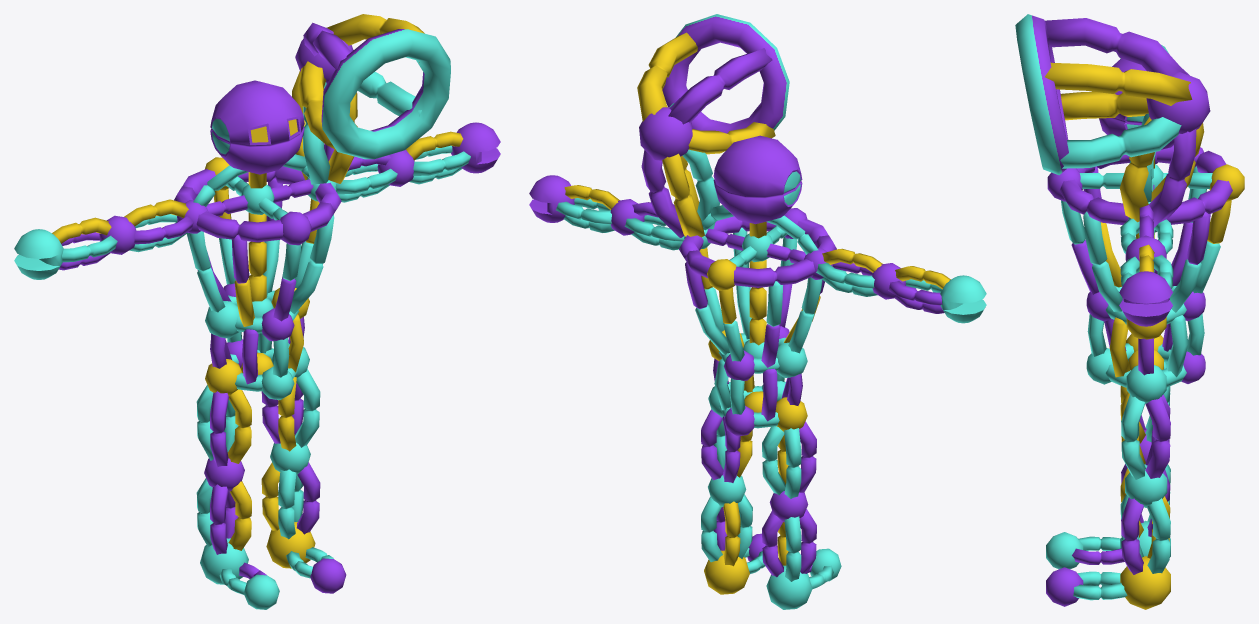
Rendered from tube character 7.fbx.
The picture shows the model from 3 angles, left to right: view 1: azimuth 30°, elevation 25°; view 2: azimuth 150°, elevation 25°; view 3: azimuth 270°, elevation 25°; orthographic projection. The views are drawn at different scales.
Parts seen in each view (by area): view 1: polySurface44, head, body_031, arm_R_009, arm_L_009, polySurface14, polySurface11, body_003, polySurface12, foot_L_003, foot_R, polySurface13 (+41 smaller); view 2: head, polySurface44, body_031, polySurface13, polySurface11, polySurface10, arm_R_009, polySurface6, polySurface7, arm_L_009, polySurface14, body_003 (+35 smaller); view 3: polySurface44, body_031, polySurface11, polySurface13, polySurface12, arm_L_009, polySurface7, polySurface14, polySurface10, foot_L_011, polySurface8, foot_L_003 (+46 smaller).
Boxes of the visible parts, <box> form: polySurface44: <box>321,29,450,159</box>; head: <box>210,80,304,174</box>; body_031: <box>174,166,341,242</box>; arm_R_009: <box>14,229,63,279</box>; arm_L_009: <box>451,122,500,173</box>; polySurface14: <box>298,61,335,149</box>; polySurface11: <box>326,14,424,62</box>; body_003: <box>248,172,266,301</box>; polySurface12: <box>358,71,421,116</box>; foot_L_003: <box>295,369,320,447</box>; foot_R: <box>200,538,248,584</box>; polySurface13: <box>303,22,350,69</box>; head: <box>713,135,802,224</box>; polySurface44: <box>662,14,789,133</box>; body_031: <box>679,216,836,287</box>; polySurface13: <box>668,48,772,124</box>; polySurface11: <box>637,32,697,121</box>; polySurface10: <box>639,107,692,160</box>; arm_R_009: <box>940,275,986,323</box>; polySurface6: <box>662,153,704,237</box>; polySurface7: <box>641,150,684,237</box>; arm_L_009: <box>529,175,574,222</box>; polySurface14: <box>688,122,775,154</box>; body_003: <box>749,222,766,345</box>; polySurface44: <box>1015,14,1068,175</box>; body_031: <box>1059,145,1232,224</box>; polySurface11: <box>1045,62,1192,105</box>; polySurface13: <box>1045,18,1187,76</box>; polySurface12: <box>1060,117,1181,168</box>; arm_L_009: <box>1119,271,1172,326</box>; polySurface7: <box>1149,129,1196,227</box>; polySurface14: <box>1060,91,1148,120</box>; polySurface10: <box>1146,72,1210,133</box>; foot_L_011: <box>1120,556,1170,609</box>; polySurface8: <box>1120,117,1154,222</box>; foot_L_003: <box>1121,395,1145,479</box>.
Size of the model in its own units: 210 by 235 by 80.07.
Materials: 1 (1 with a texture image).
